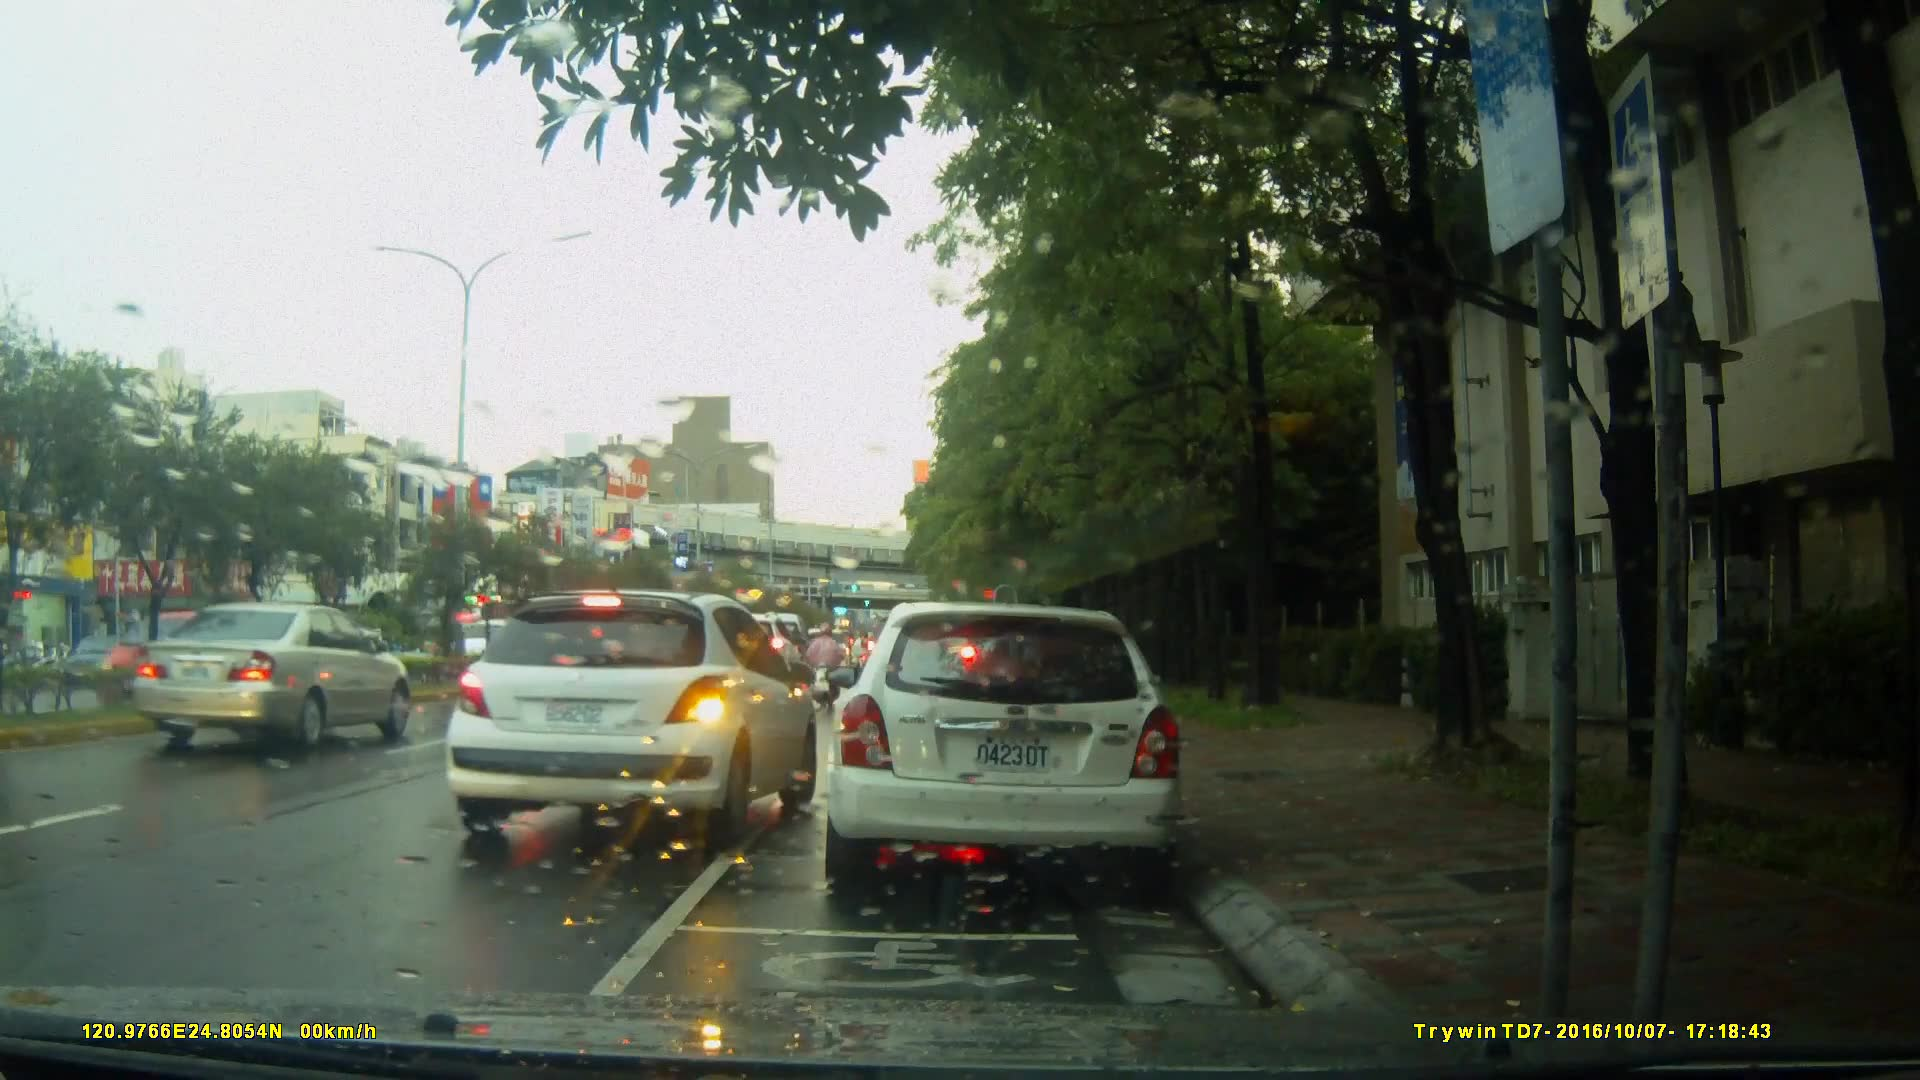rider: (807, 617, 843, 713)
vehicle: (820, 602, 1188, 898), (440, 586, 829, 848), (131, 600, 415, 754)
